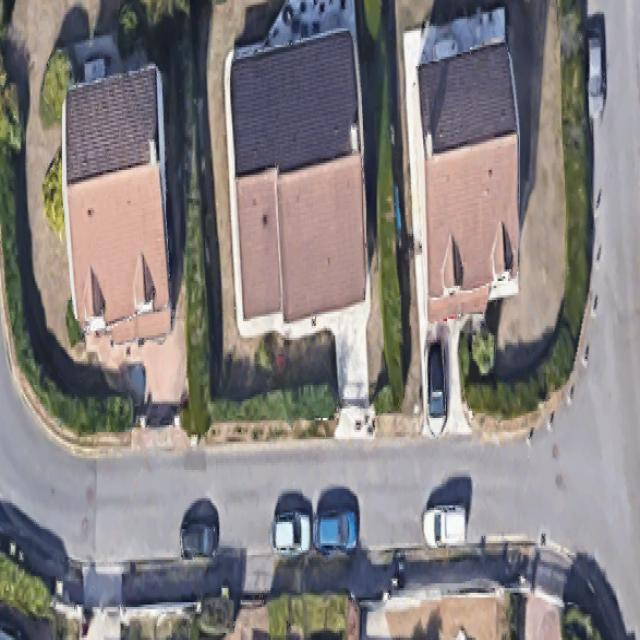maison: (229, 36, 369, 324), (62, 68, 172, 344), (417, 47, 519, 319)
